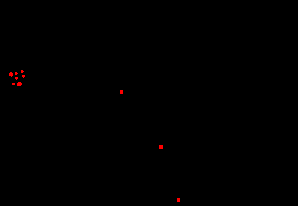Target: (9, 72, 13, 77), (17, 82, 22, 86), (159, 145, 163, 149), (120, 90, 123, 94), (177, 198, 180, 202), (21, 70, 24, 73), (15, 72, 18, 75), (22, 75, 25, 78), (15, 77, 18, 80), (12, 83, 15, 85)
